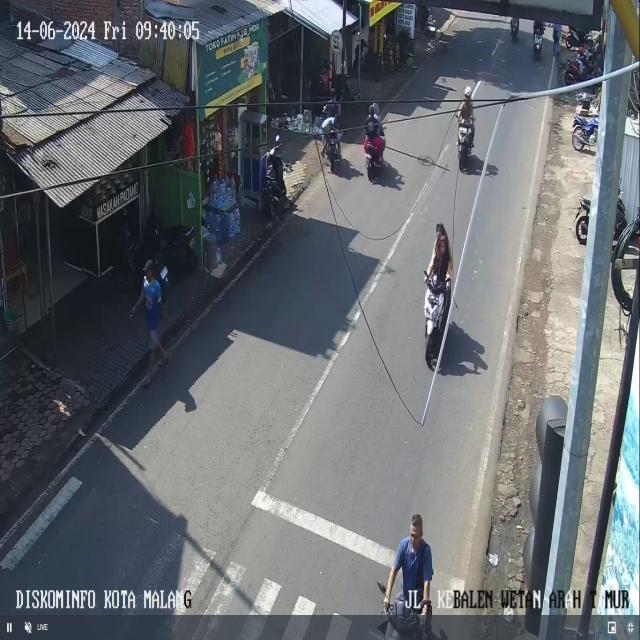Helmet: (464, 86, 471, 96), (369, 105, 374, 115)
